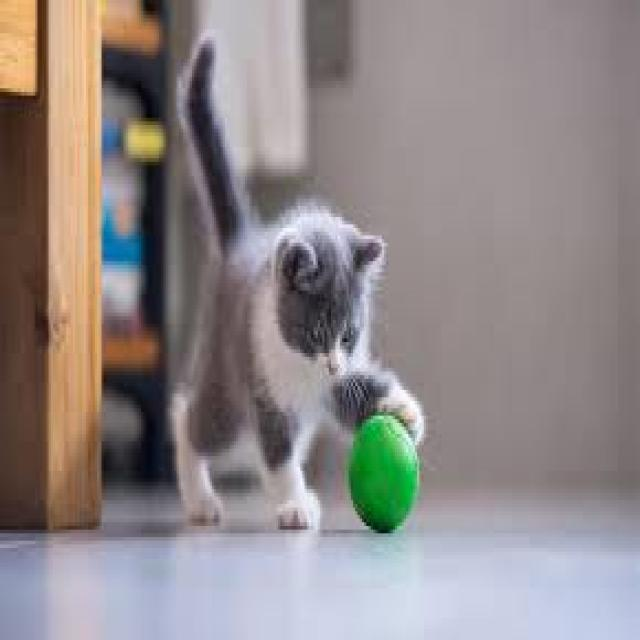cat: (164, 17, 427, 540)
